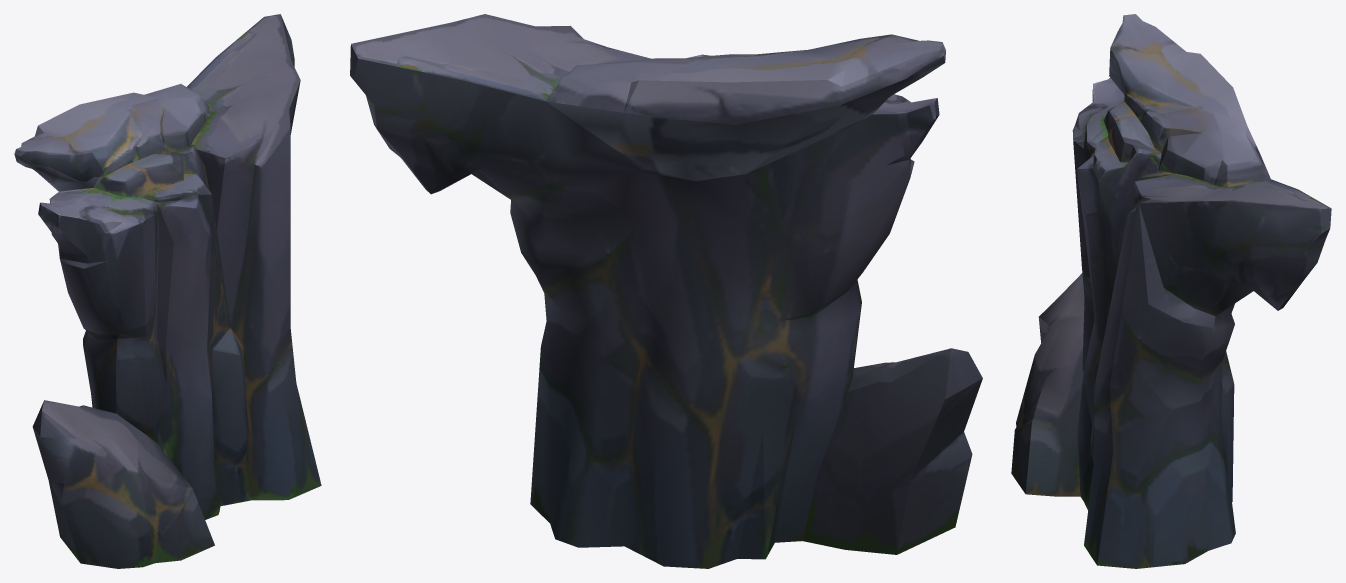
Rendered from scene_malujiakuangdao_shan04.FBX.
3 views of the same model, side by side, from view 1: azimuth 30°, elevation 25°; view 2: azimuth 150°, elevation 25°; view 3: azimuth 270°, elevation 25° (orthographic). The views are drawn at different scales.
Parts seen in each view (by area): view 1: scene_malujiakuangdao_shan04; view 2: scene_malujiakuangdao_shan04; view 3: scene_malujiakuangdao_shan04.
Boxes of the visible parts, <box> form: scene_malujiakuangdao_shan04: <box>14,14,321,568</box>; scene_malujiakuangdao_shan04: <box>350,14,982,568</box>; scene_malujiakuangdao_shan04: <box>1011,14,1331,568</box>.
Bounding box in the file's own units: 1119 × 1177 × 839.
